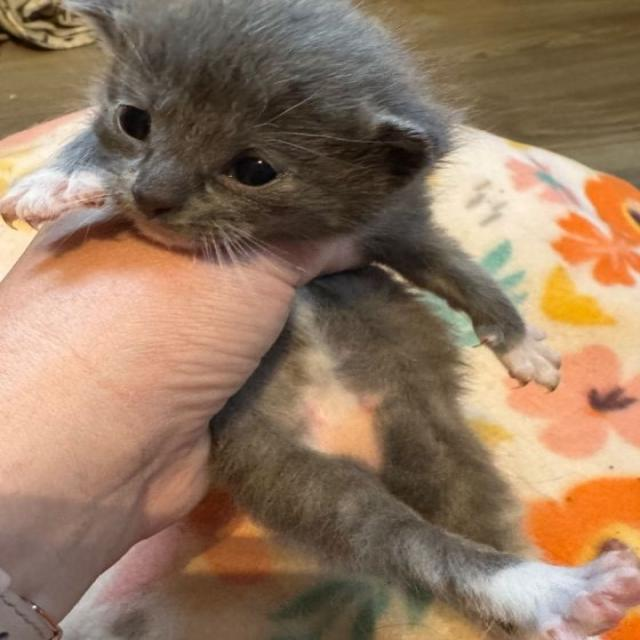russian_blue_cat: (63, 3, 470, 268)
